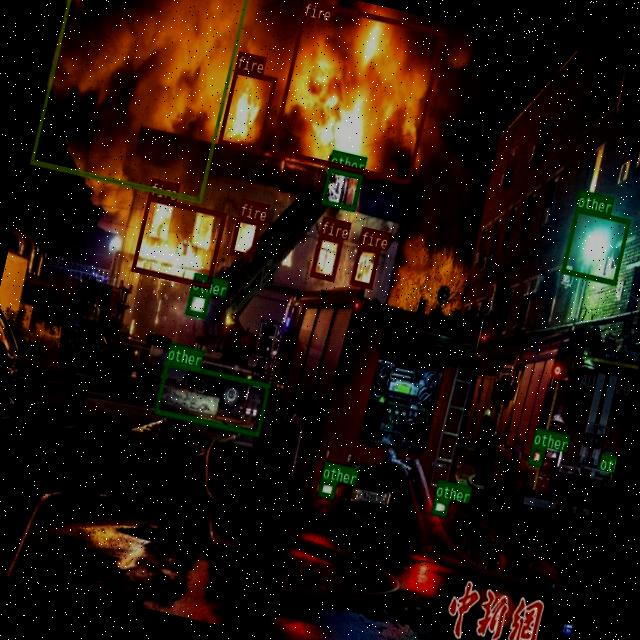fire: (270, 0, 444, 183), (130, 194, 225, 288), (216, 68, 276, 152), (310, 232, 342, 280), (349, 242, 380, 288), (229, 215, 260, 258)
smoke: (29, 0, 251, 202)
